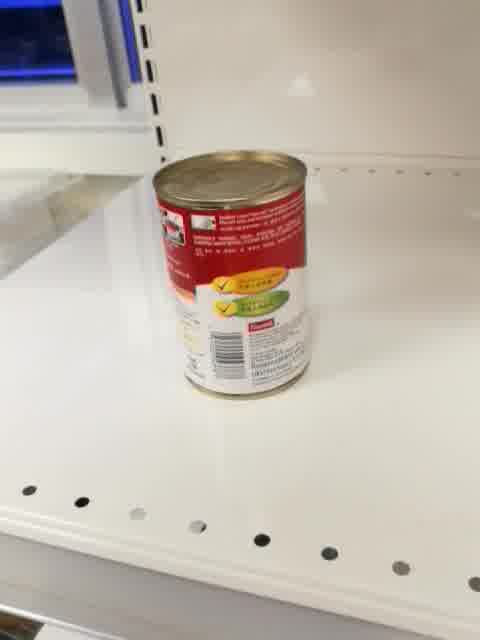tomatosoup: (151, 145, 312, 401)
